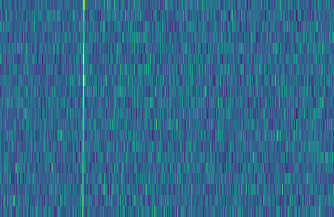signal: (204, 0, 217, 217)
